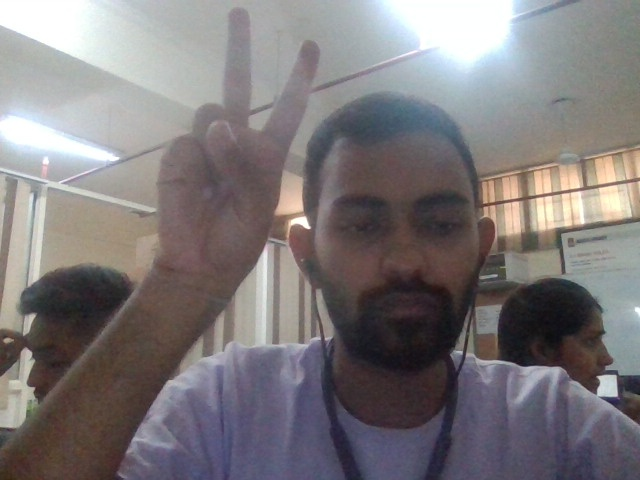ThankYou: (154, 7, 319, 279)
